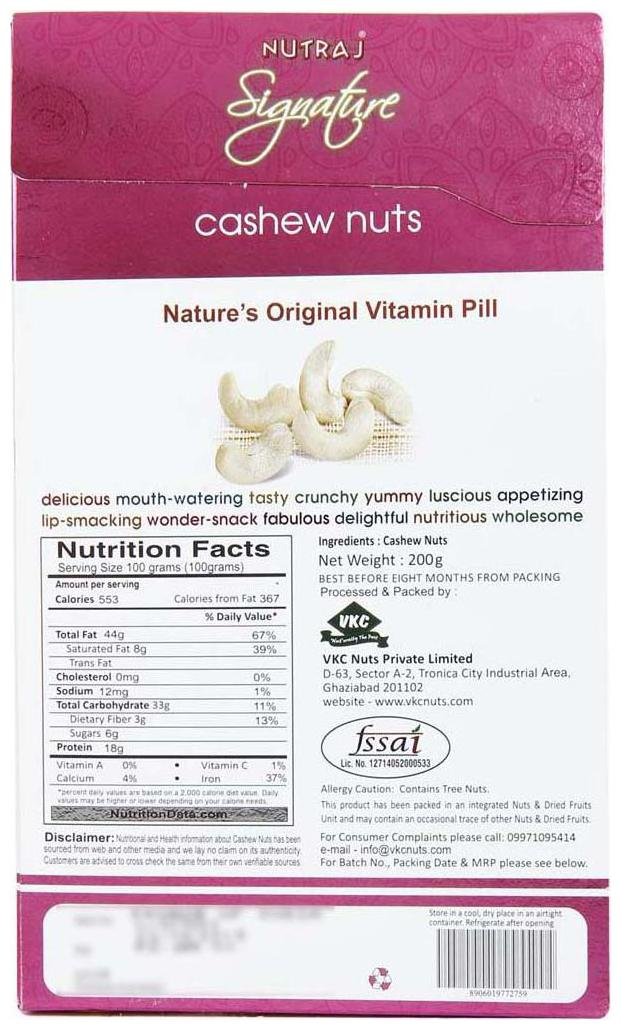fssai: (347, 723, 424, 757)
